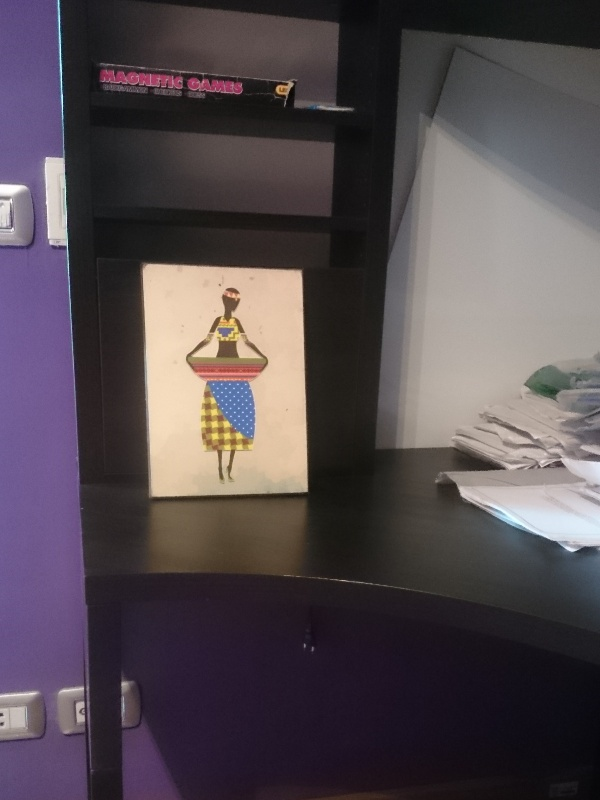my image: (143, 264, 306, 498)
